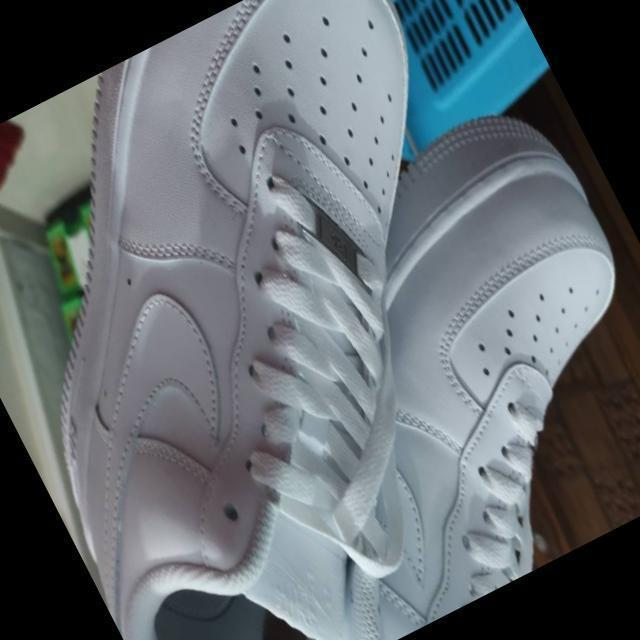nike original air force: (0, 0, 640, 640), (122, 83, 640, 640)
